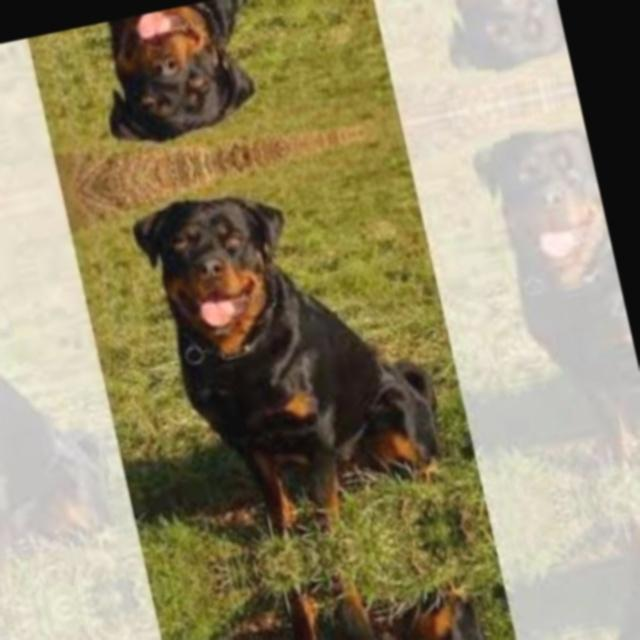dog: (111, 165, 337, 374), (72, 0, 291, 164)
